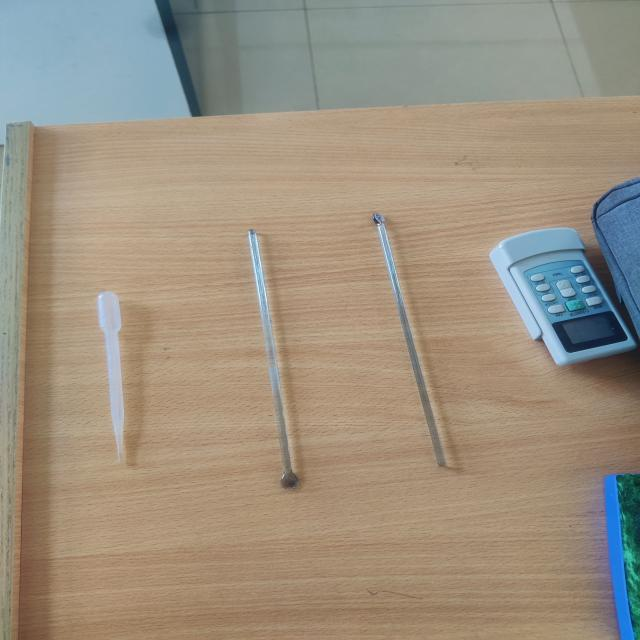Glass_Rod: (326, 193, 486, 497), (222, 194, 328, 514)
Pipette: (79, 258, 178, 480)
